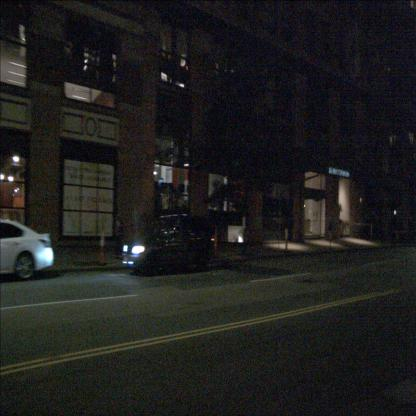movable_object-trafficcone: (99, 228, 106, 265), (213, 227, 218, 259), (284, 228, 289, 252)
vehicle-car: (122, 212, 215, 274), (0, 218, 55, 282)
